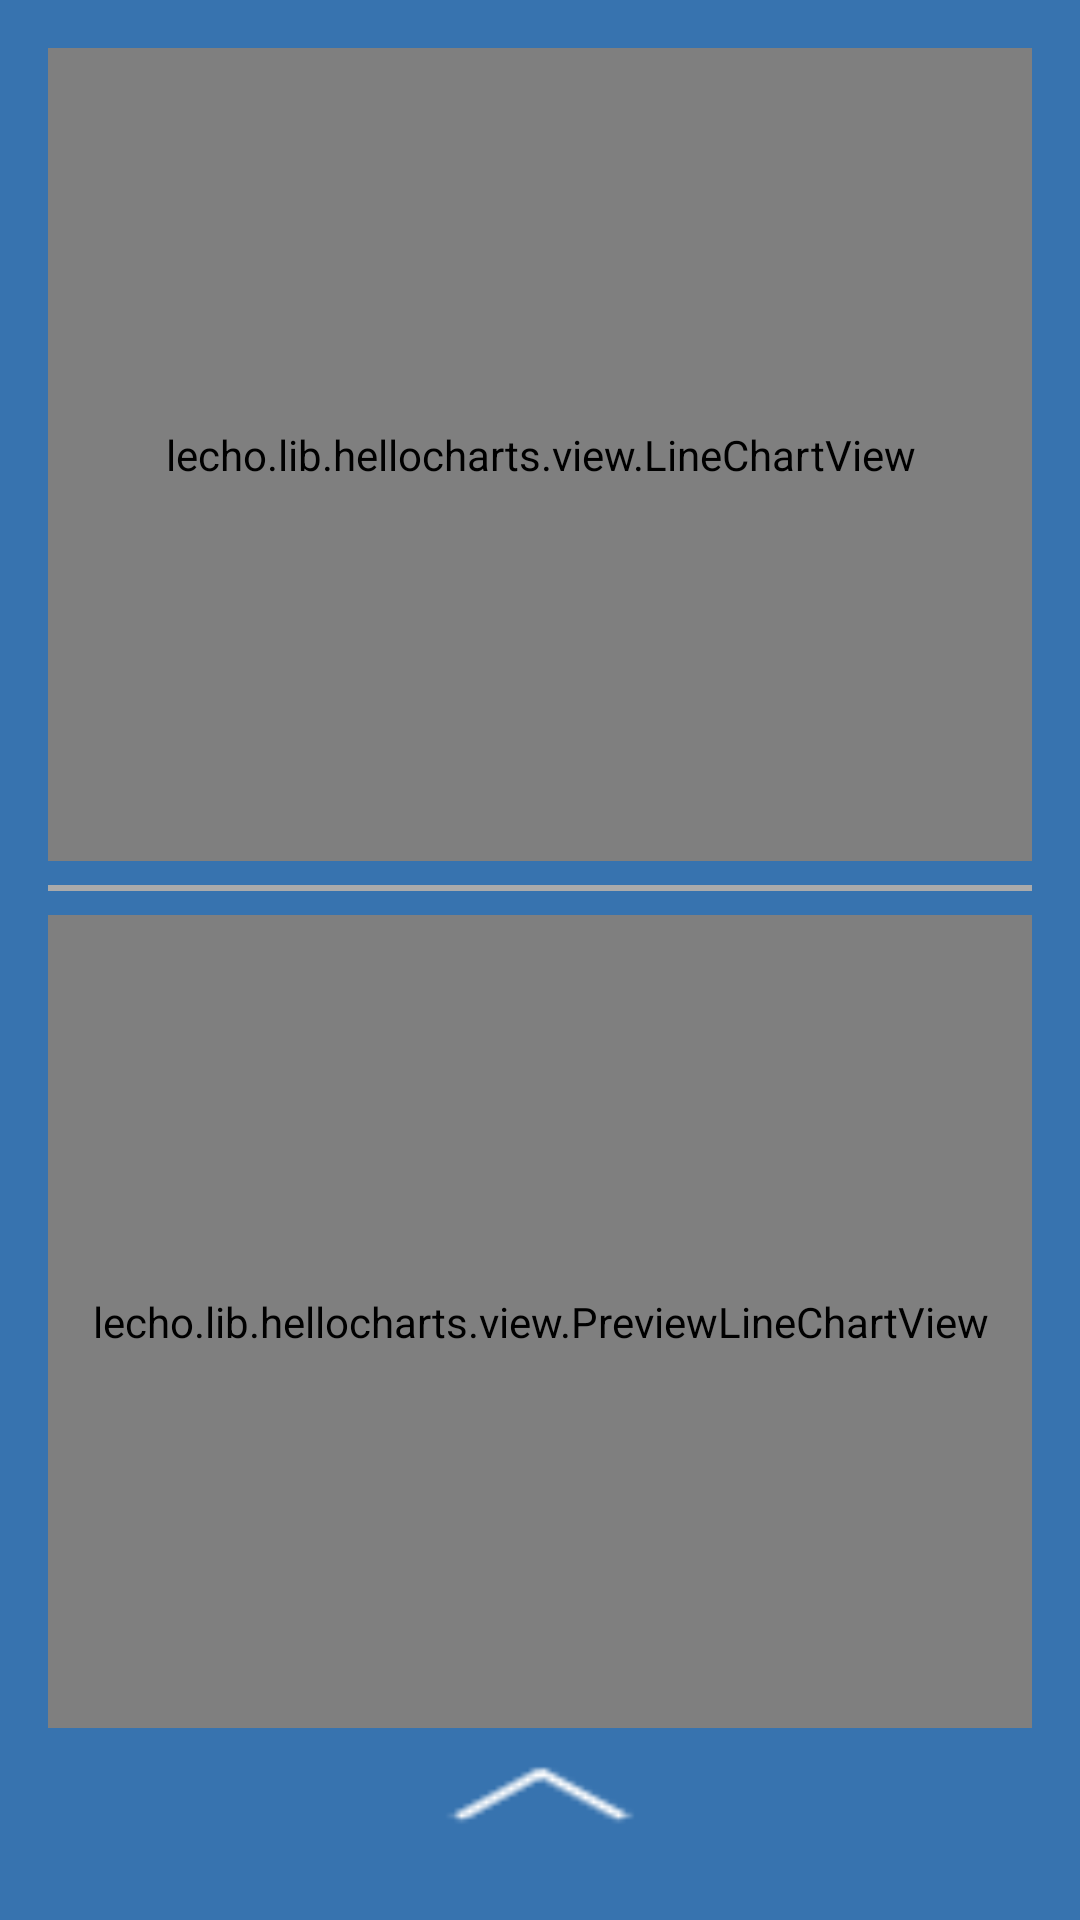

Icon bounding boxes for this 1080px×1920px phone screenshot, format [x1, y1, x2, y2]:
mores: [451, 1767, 632, 1822]
